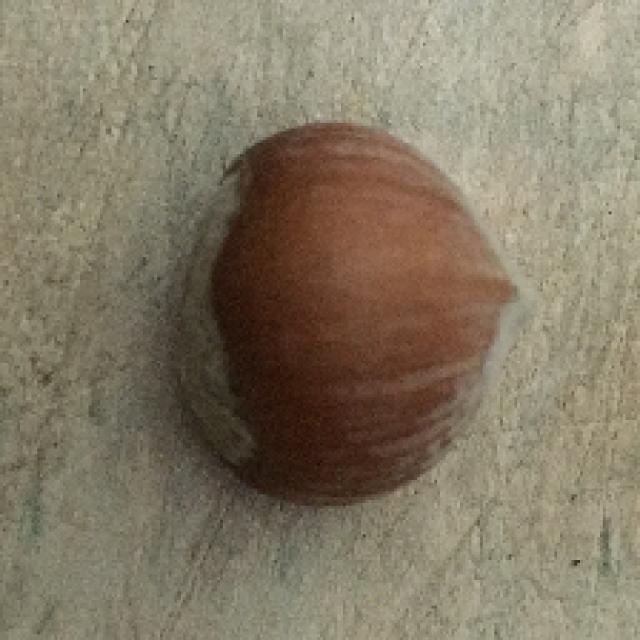qualityHazelnut: (162, 110, 524, 514)
